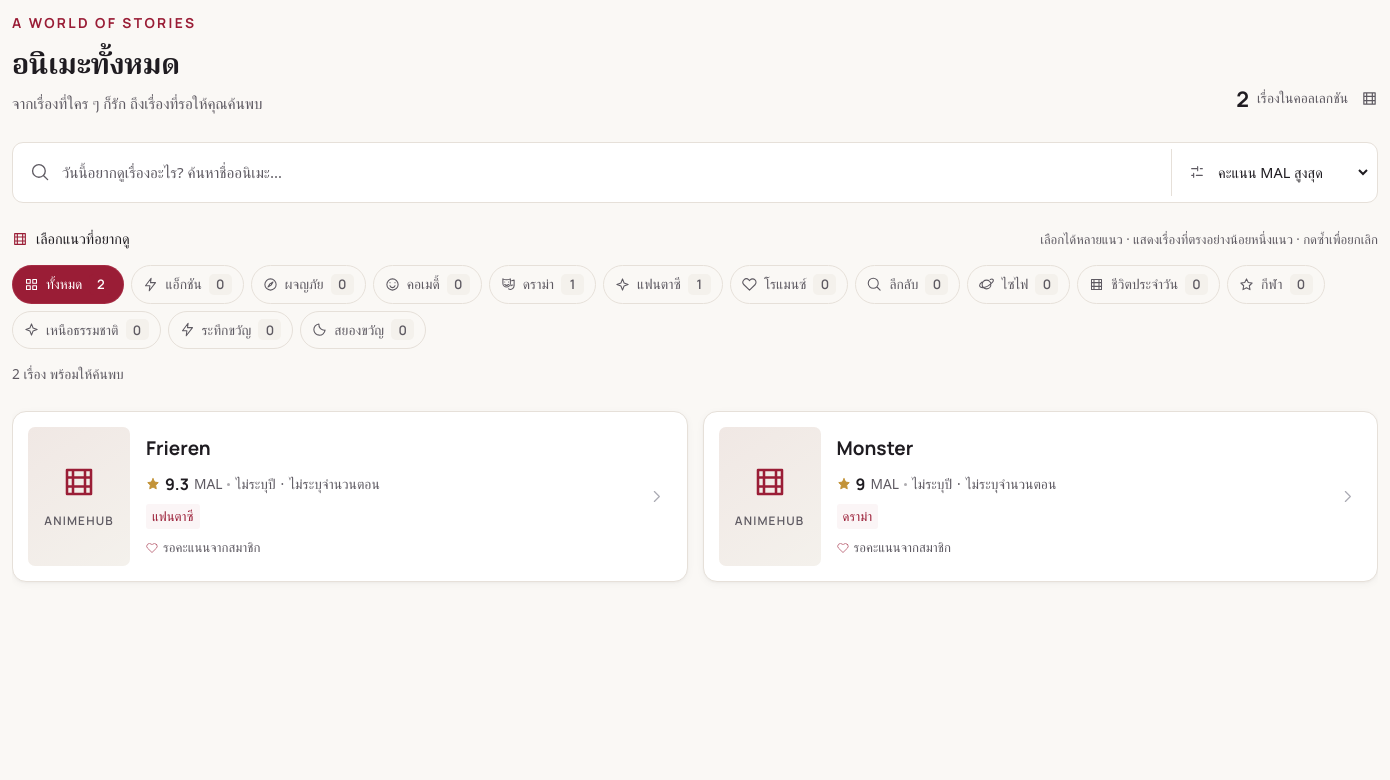
it: search and genre buttons filter locally without a genre dropdown or additional requests
This screenshot has width=1390, height=780.
Expected: the heading "Frieren" is shown, [146, 435, 211, 461]
Click the button "ดราม่า 1" at [542, 284], box [489, 265, 596, 304]
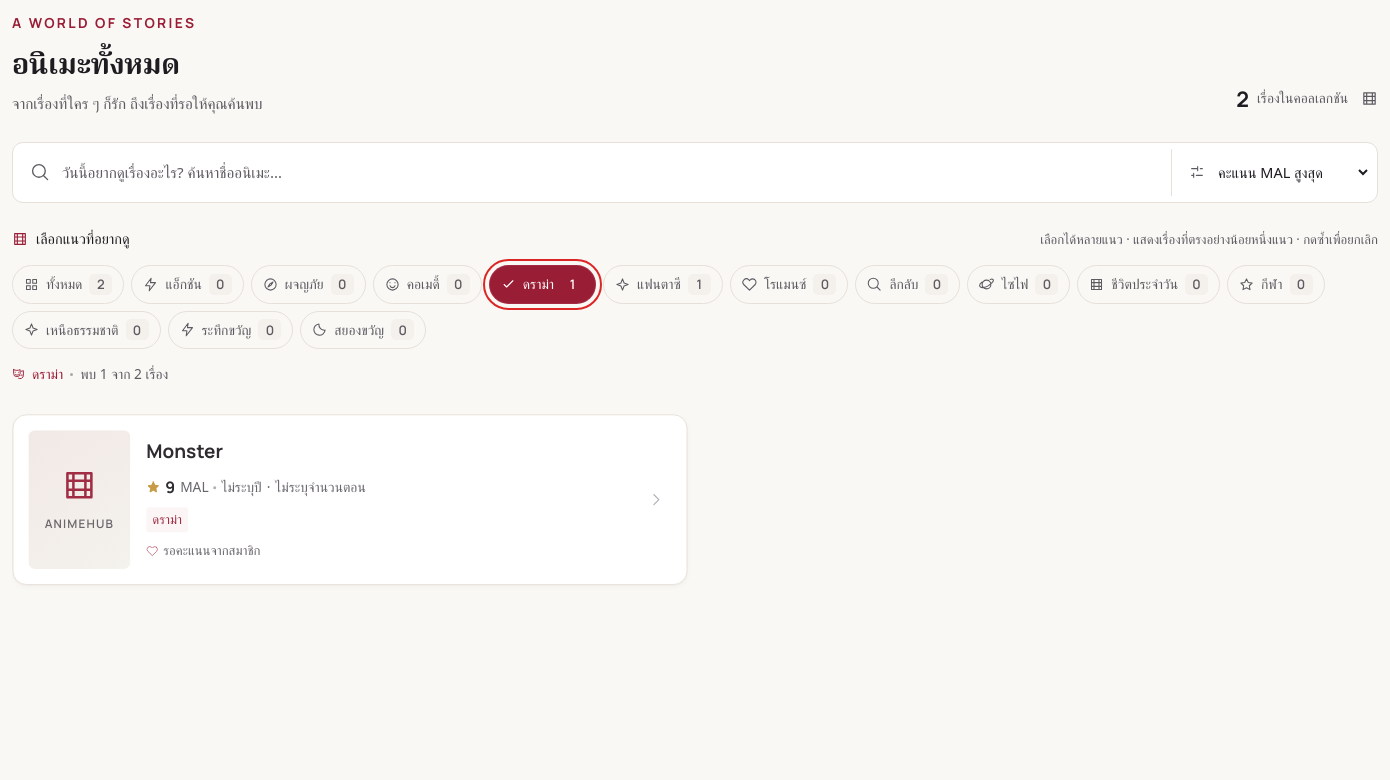
Expected: the heading "Monster" is shown, [146, 438, 223, 464]
Expected: the link "Frieren" is gone
Type "missing" into the field named "ค้นหาอนิเมะ" at [612, 172], box [62, 149, 1161, 196]
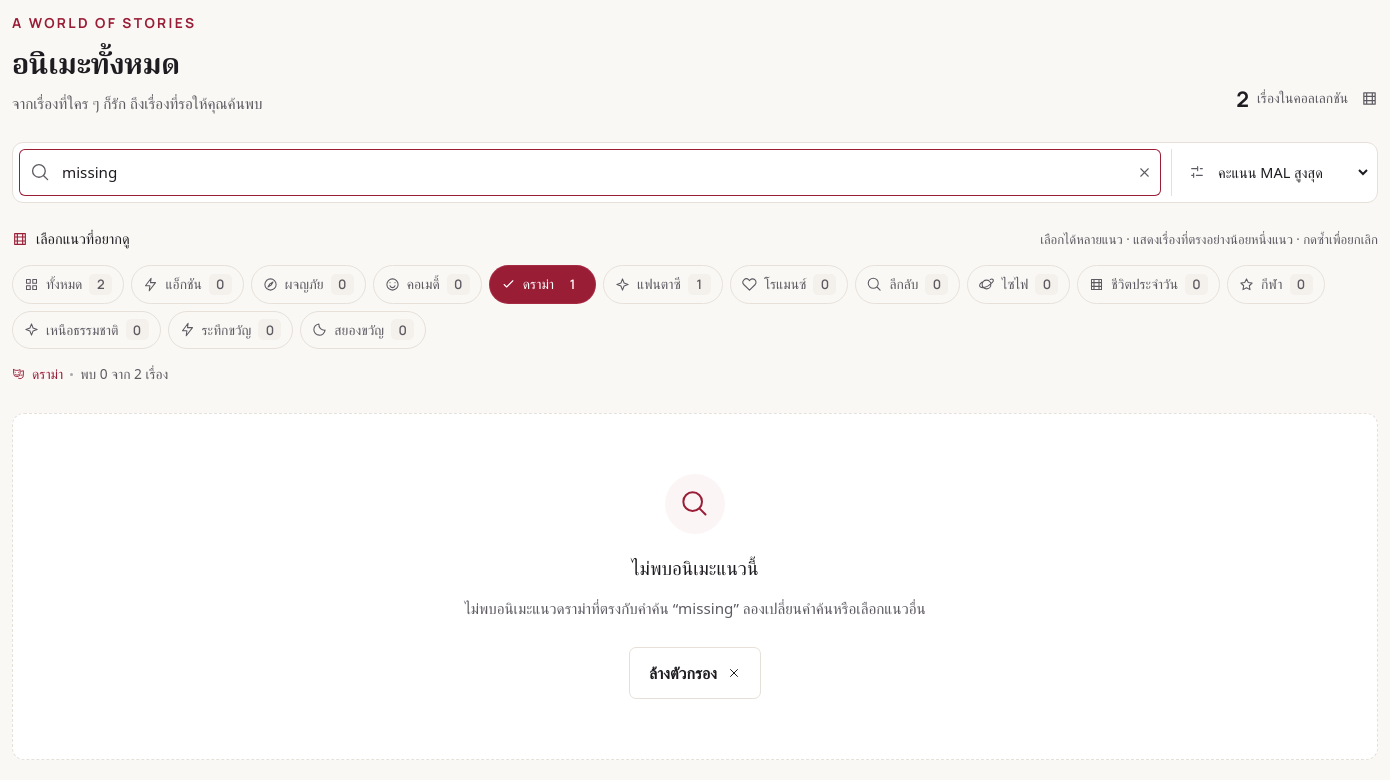
Expected: the text "ไม่พบอนิเมะแนวนี้" is shown, [632, 553, 758, 584]
Expected: the text "แนวดราม่าที่ตรงกับคำค้น “missing”" is shown, [464, 598, 926, 618]
